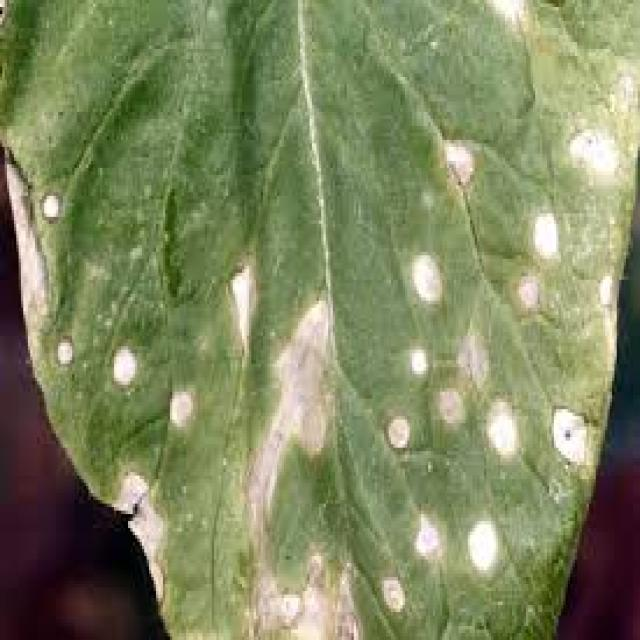Panama: (245, 294, 362, 640), (370, 492, 515, 600), (378, 323, 473, 476), (96, 322, 204, 455), (113, 453, 184, 638), (455, 316, 528, 484), (511, 192, 574, 334), (535, 392, 608, 487), (207, 248, 257, 378), (589, 247, 640, 368), (403, 221, 464, 320), (437, 130, 500, 212), (44, 308, 92, 394), (29, 165, 70, 242)
